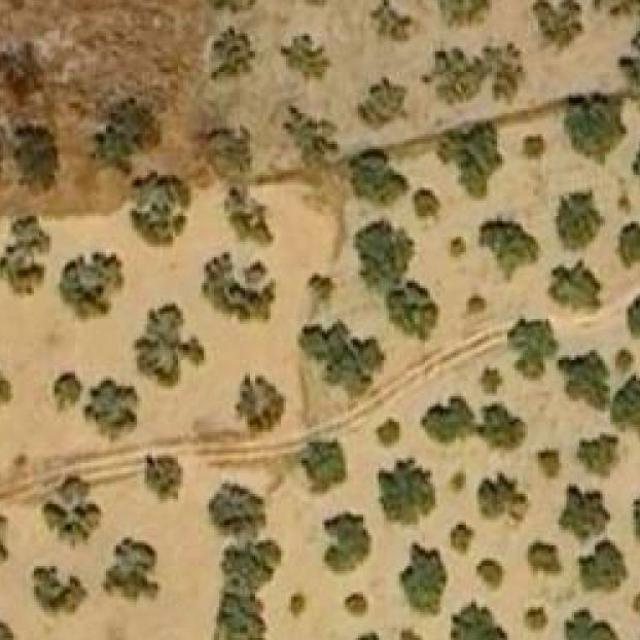Tree: (126, 170, 207, 250), (39, 473, 117, 555), (58, 247, 143, 322), (0, 209, 62, 309), (132, 300, 196, 392), (351, 216, 424, 296), (442, 113, 510, 198), (304, 319, 378, 392), (207, 252, 283, 321), (13, 123, 70, 213), (420, 41, 488, 113), (564, 92, 631, 164), (99, 92, 158, 172), (209, 476, 276, 544), (296, 432, 362, 501), (284, 103, 343, 179), (85, 372, 148, 443), (0, 34, 57, 112), (219, 185, 286, 250), (373, 452, 438, 518), (194, 119, 258, 184), (104, 538, 161, 609), (235, 370, 293, 438), (320, 504, 375, 575), (219, 543, 286, 601), (397, 544, 452, 614), (543, 257, 607, 316), (358, 72, 415, 135), (479, 44, 533, 110), (582, 532, 635, 599), (348, 144, 406, 204), (523, 0, 583, 57), (24, 564, 86, 619), (505, 325, 560, 384), (387, 286, 445, 341), (423, 396, 478, 453), (557, 191, 607, 252), (448, 597, 518, 640), (557, 482, 611, 537), (479, 473, 530, 531), (209, 28, 255, 92), (476, 400, 522, 461), (482, 216, 536, 267), (576, 425, 622, 483), (566, 350, 609, 411), (214, 597, 274, 640), (286, 31, 332, 84), (368, 0, 418, 47), (474, 350, 512, 410), (434, 0, 499, 34), (139, 448, 181, 498), (522, 530, 560, 581), (612, 370, 640, 438), (564, 607, 620, 640), (301, 272, 346, 312), (48, 361, 84, 405), (518, 136, 552, 181), (622, 33, 640, 114), (410, 182, 440, 228), (528, 448, 573, 478), (341, 588, 374, 628), (615, 224, 640, 274), (520, 599, 550, 640), (0, 502, 17, 573), (448, 522, 479, 558), (374, 410, 404, 446), (623, 478, 640, 541), (289, 0, 353, 16), (284, 586, 314, 620), (476, 556, 504, 592), (448, 235, 478, 268), (615, 350, 640, 389), (600, 0, 640, 24), (625, 131, 640, 193), (625, 293, 640, 354), (446, 471, 474, 503), (217, 0, 264, 19), (613, 190, 640, 222), (620, 590, 640, 624), (0, 363, 12, 415), (0, 612, 20, 640), (391, 627, 430, 640), (348, 630, 389, 640)
